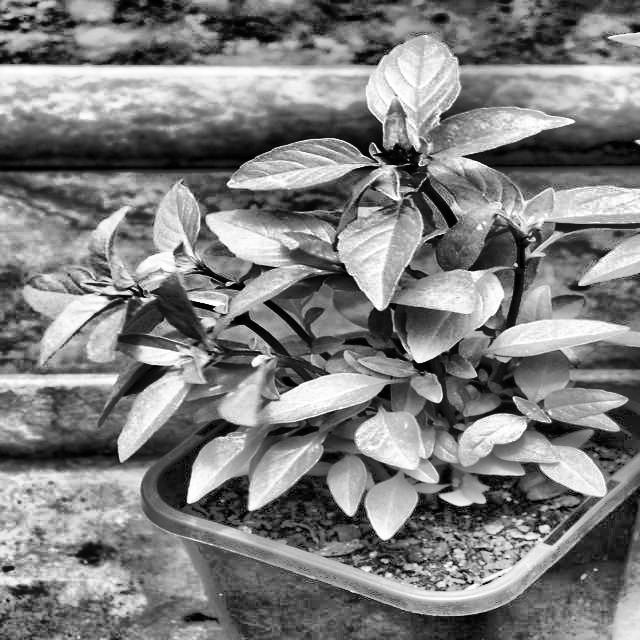plants: (42, 143, 630, 581)
